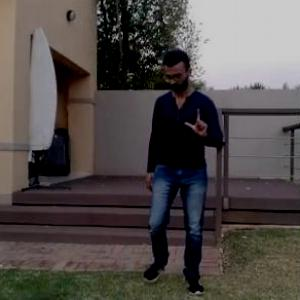land_hand: (183, 102, 213, 140)
